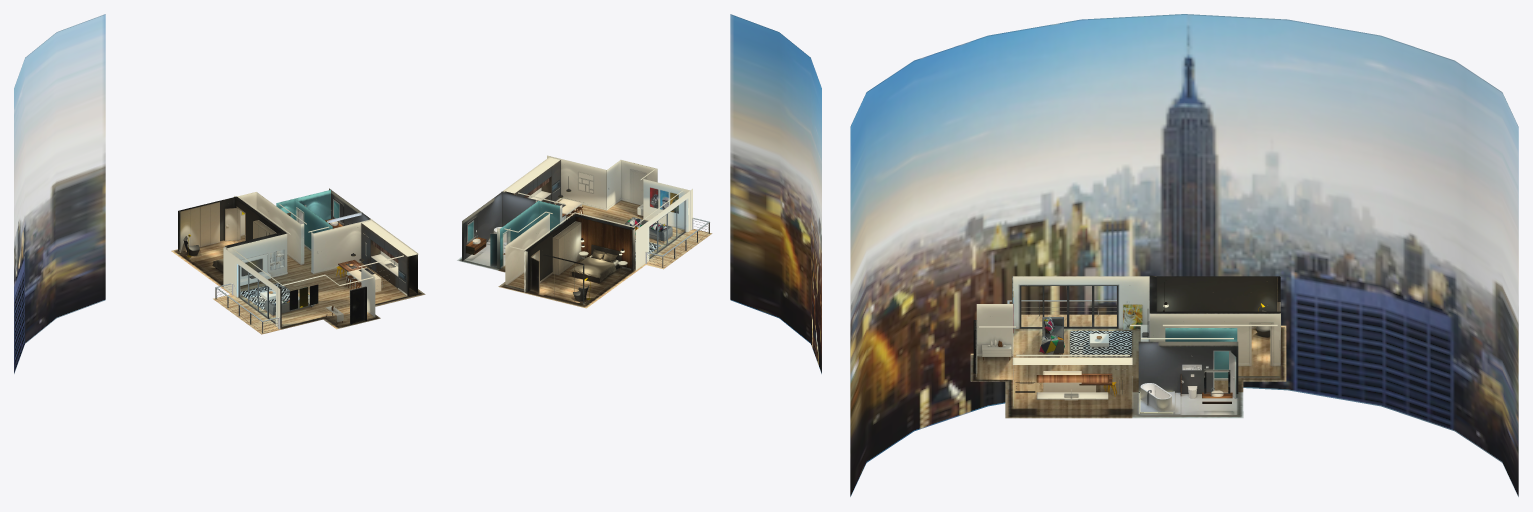
Rendered from apartamento.glb.
3 renders of one model, left to right at view 1: azimuth 30°, elevation 25°; view 2: azimuth 150°, elevation 25°; view 3: azimuth 270°, elevation 25°, orthographic. The views are drawn at different scales.
Parts seen in each view (by area): view 1: SM_BG, SM_Floor, SM_HallFrames_miniCounter_SkirtingBoard, SM_wallKitchen_q1, SM_KitchenPanel, SM_WallLiving_q5, SM_RoomCabs, SM_Doors, SM_PaintingsWindow_Rails, SM_WallLiving_Q2_3, SM_KitchenBath_WALL, SM_Tv_Rack_cTable_Bowl1 (+4 smaller); view 2: SM_BG, SM_Floor, SM_WallLiving_Q3_4, SM_WallLiving_q5, SM_wallKitchen_q1, SM_HallFrames_miniCounter_SkirtingBoard, SM_KitchenPanel, SM_RoomCabs, SM_KitchenBath_WALL, SM_Doors, SM_PaintingsWindow_Rails, SM_WallLiving_Q2_3 (+3 smaller); view 3: SM_BG, SM_Floor, SM_Room_WALL, SM_wallKitchen_q1, SM_WallLiving_q5, SM_WallLiving_Q2_3, SM_KitchenPanel, SM_PaintingsWindow_Rails, SM_HallFrames_miniCounter_SkirtingBoard, SM_WallLiving_Q3_4, SM_ToiletTub, SM_Rug (+3 smaller).
Part boxes in pixels (<box>): SM_BG: <box>14,14,105,373</box>; SM_Floor: <box>171,235,425,334</box>; SM_HallFrames_miniCounter_SkirtingBoard: <box>179,190,407,318</box>; SM_wallKitchen_q1: <box>294,199,371,271</box>; SM_KitchenPanel: <box>361,220,418,295</box>; SM_WallLiving_q5: <box>225,196,287,275</box>; SM_RoomCabs: <box>179,201,276,251</box>; SM_Doors: <box>225,204,366,324</box>; SM_PaintingsWindow_Rails: <box>215,265,318,333</box>; SM_WallLiving_Q2_3: <box>223,247,281,327</box>; SM_KitchenBath_WALL: <box>329,188,417,293</box>; SM_Tv_Rack_cTable_Bowl1: <box>240,254,275,300</box>; SM_BG: <box>730,14,821,373</box>; SM_Floor: <box>457,199,712,308</box>; SM_WallLiving_Q3_4: <box>547,155,692,230</box>; SM_WallLiving_q5: <box>524,214,635,291</box>; SM_wallKitchen_q1: <box>497,191,562,269</box>; SM_HallFrames_miniCounter_SkirtingBoard: <box>500,197,684,303</box>; SM_KitchenPanel: <box>505,157,560,203</box>; SM_RoomCabs: <box>543,221,584,304</box>; SM_KitchenBath_WALL: <box>462,156,550,261</box>; SM_Doors: <box>490,169,646,293</box>; SM_PaintingsWindow_Rails: <box>635,187,709,267</box>; SM_WallLiving_Q2_3: <box>635,190,690,270</box>; SM_BG: <box>850,14,1518,496</box>; SM_Floor: <box>970,314,1286,418</box>; SM_Room_WALL: <box>1156,276,1280,326</box>; SM_wallKitchen_q1: <box>1138,341,1238,393</box>; SM_WallLiving_q5: <box>1149,275,1280,365</box>; SM_WallLiving_Q2_3: <box>1012,276,1149,326</box>; SM_KitchenPanel: <box>1012,357,1132,399</box>; SM_PaintingsWindow_Rails: <box>1007,284,1142,332</box>; SM_HallFrames_miniCounter_SkirtingBoard: <box>976,326,1280,408</box>; SM_WallLiving_Q3_4: <box>976,304,1012,353</box>; SM_ToiletTub: <box>1138,374,1223,414</box>; SM_Rug: <box>1070,330,1132,356</box>.
Size of the model in its own units: 20.53 by 18.61 by 30.4.
Materials: 41 (40 with a texture image).
